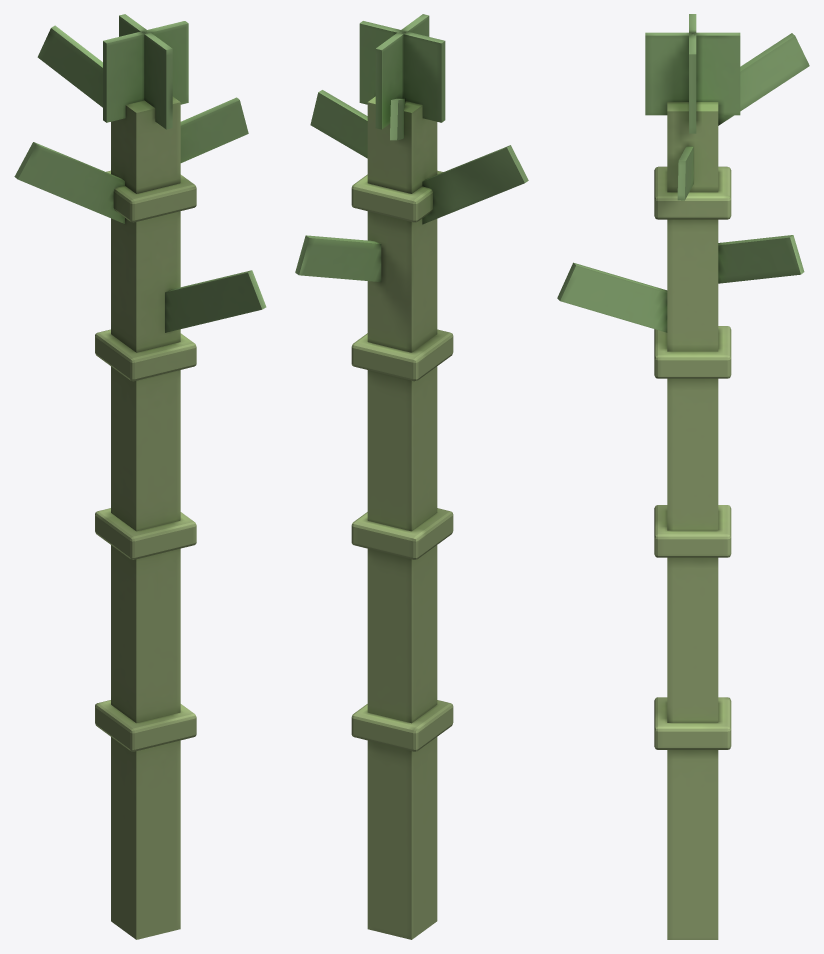
Rendered from bamboo.glb.
The picture shows the model from 3 angles, left to right: view 1: azimuth 30°, elevation 25°; view 2: azimuth 150°, elevation 25°; view 3: azimuth 270°, elevation 25°; orthographic projection.
Visible parts, largest first — view 1: bamboo; view 2: bamboo; view 3: bamboo.
Part boxes in pixels (x1,y1,x2,y2): bamboo: [14, 14, 266, 939]; bamboo: [295, 14, 528, 939]; bamboo: [557, 14, 809, 939].
Size of the model in its own units: 0.7062 by 2.7 by 0.691.
2 materials, 2 textured.
